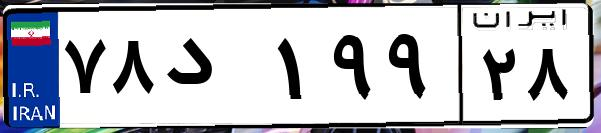1: (270, 28, 330, 110)
2: (475, 38, 525, 113)
7: (57, 26, 110, 100)
8: (525, 38, 570, 115), (110, 28, 158, 98)
9: (385, 28, 445, 110), (330, 28, 385, 110)
د: (158, 20, 270, 120)
